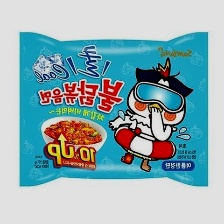snack: (12, 21, 216, 198)
